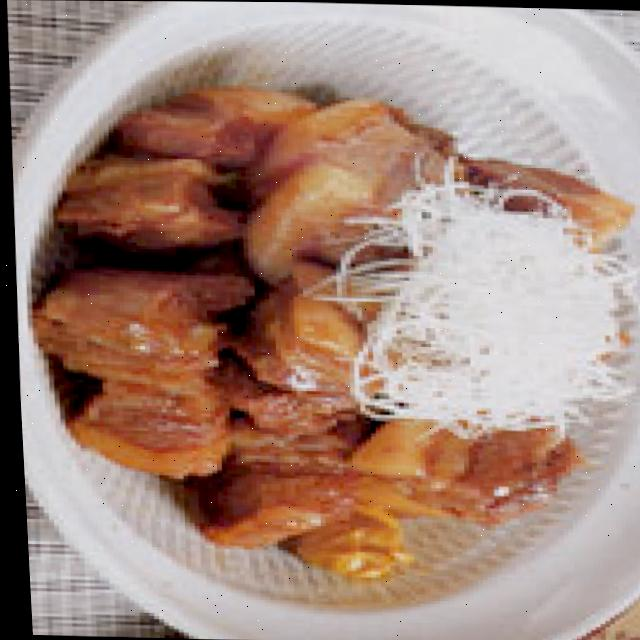猪肉菜式: (17, 60, 640, 593)
